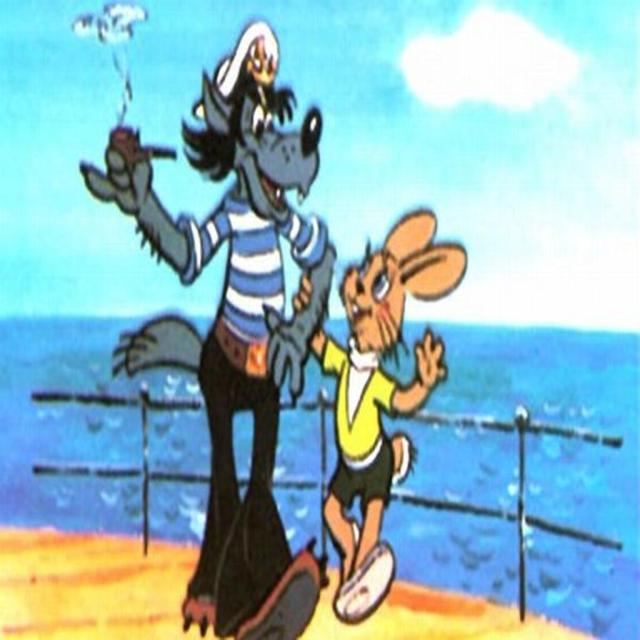smoking: (80, 13, 339, 638)
